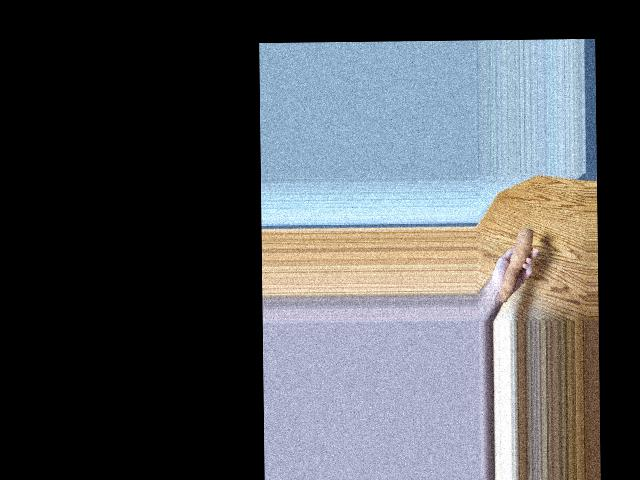sweet_potato: (496, 227, 535, 304)
